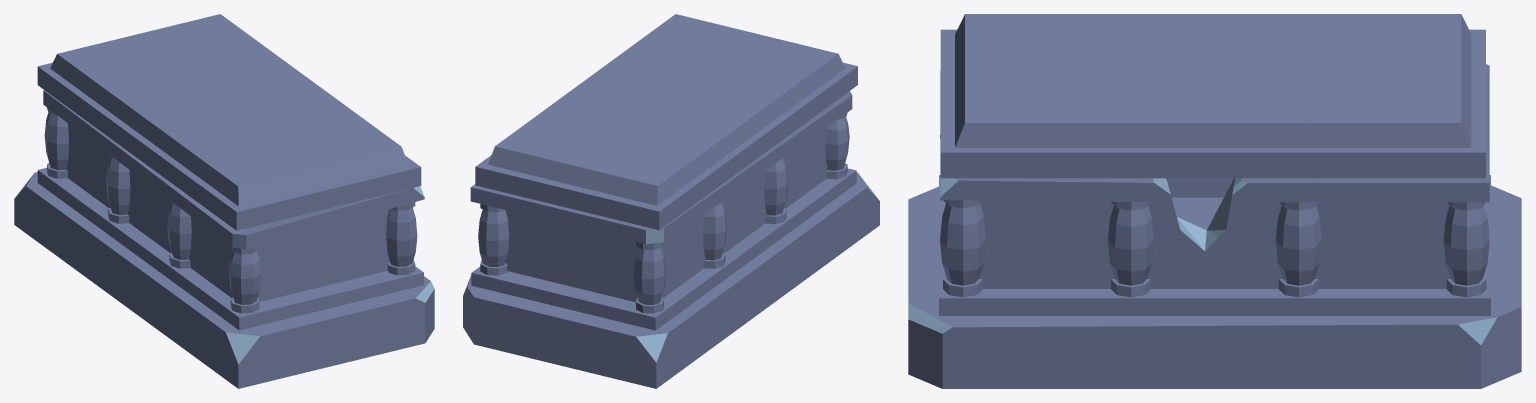
File: Sarcophage 02.fbx
3 renders of one model, left to right at view 1: azimuth 30°, elevation 25°; view 2: azimuth 150°, elevation 25°; view 3: azimuth 270°, elevation 25°, orthographic. The views are drawn at different scales.
Parts seen in each view (by area): view 1: Sarcophage 02, Sarcophage 02 Lid.002, Sarcophage 02 Lid.001, Sarcophage 02 Lid.004, Sarcophage 02 Lid.003; view 2: Sarcophage 02, Sarcophage 02 Lid.002, Sarcophage 02 Lid.001, Sarcophage 02 Lid.003, Sarcophage 02 Lid.004; view 3: Sarcophage 02, Sarcophage 02 Lid.002, Sarcophage 02 Lid.004, Sarcophage 02 Lid.003, Sarcophage 02 Lid.001.
Part boxes in pixels (box(x1,y1,x2,y2)): Sarcophage 02: box(14, 90, 434, 388); Sarcophage 02 Lid.002: box(37, 14, 275, 162); Sarcophage 02 Lid.001: box(144, 116, 383, 230); Sarcophage 02 Lid.004: box(238, 95, 421, 194); Sarcophage 02 Lid.003: box(149, 55, 330, 148); Sarcophage 02: box(463, 91, 879, 388); Sarcophage 02 Lid.002: box(475, 105, 770, 230); Sarcophage 02 Lid.001: box(696, 25, 857, 151); Sarcophage 02 Lid.003: box(551, 65, 770, 130); Sarcophage 02 Lid.004: box(606, 14, 722, 88); Sarcophage 02: box(908, 64, 1521, 388); Sarcophage 02 Lid.002: box(1189, 14, 1485, 178); Sarcophage 02 Lid.004: box(940, 61, 1184, 178); Sarcophage 02 Lid.003: box(1157, 14, 1313, 178); Sarcophage 02 Lid.001: box(940, 14, 1164, 122).
Size of the model in its own units: 187 by 156 by 347.
